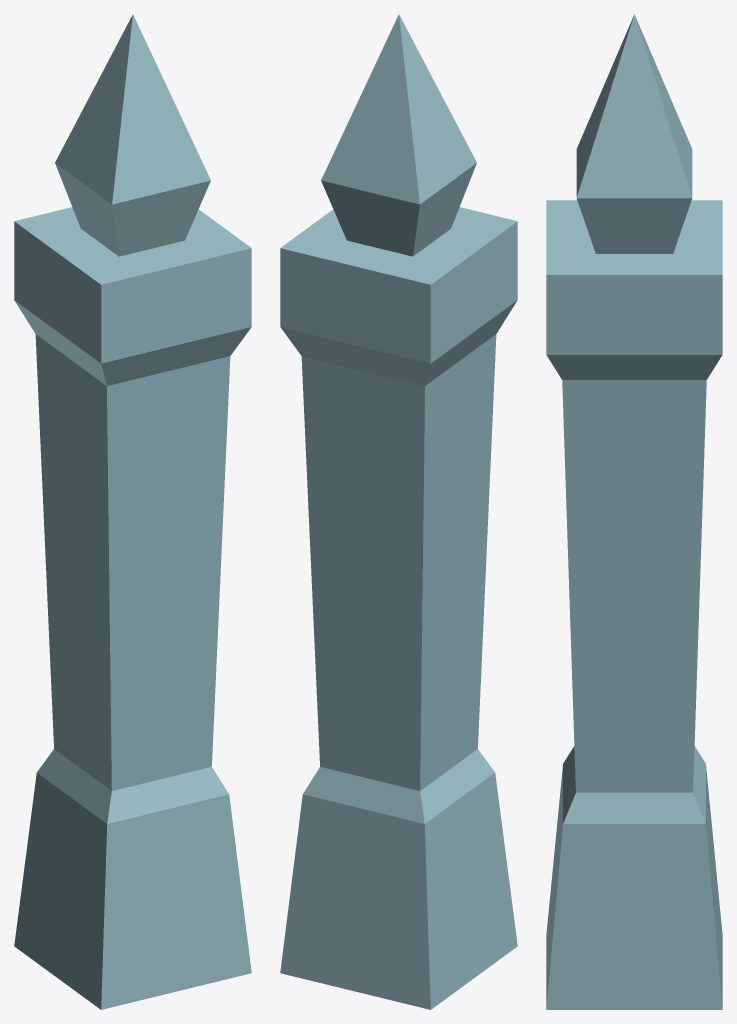
The model's file is pillarSmall.fbx.
The picture shows the model from 3 angles, left to right: view 1: azimuth 30°, elevation 25°; view 2: azimuth 150°, elevation 25°; view 3: azimuth 270°, elevation 25°; orthographic projection.
Visible parts, largest first — view 1: pillarSmall; view 2: pillarSmall; view 3: pillarSmall.
Boxes of the visible parts, left/top/right/bottom form: pillarSmall: left=14, top=14, right=251, bottom=1009; pillarSmall: left=280, top=14, right=517, bottom=1009; pillarSmall: left=546, top=14, right=722, bottom=1009.
Size of the model in its own units: 1 by 6 by 1.
